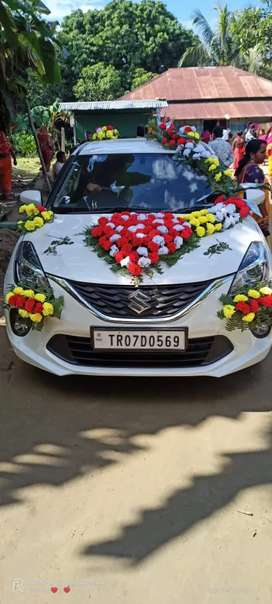TR07D0569: (93, 329, 185, 348)
